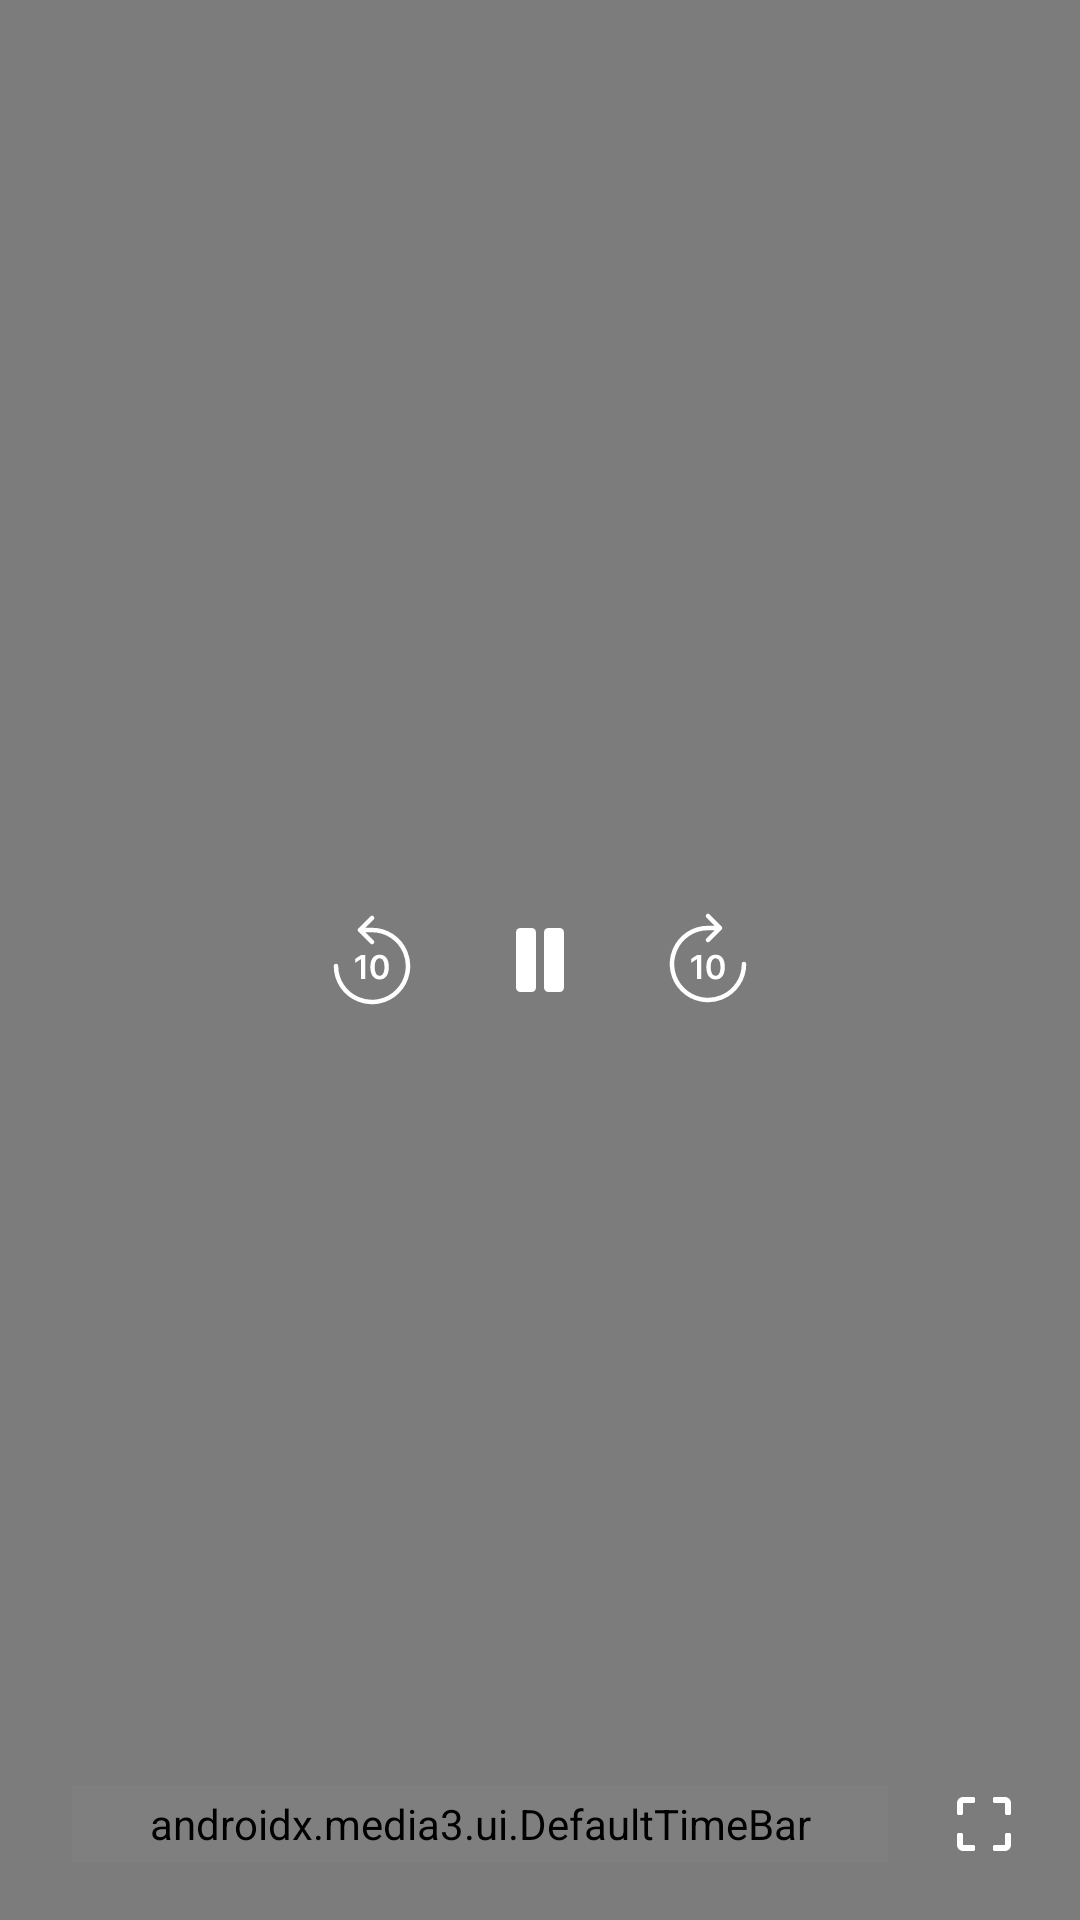

Icon click points for this 1080w x 1920h phone screenshot, format point (x, y):
back 10s: point (372, 960)
fullscreen: point (984, 1824)
next 10s: point (708, 958)
pause: point (540, 960)
